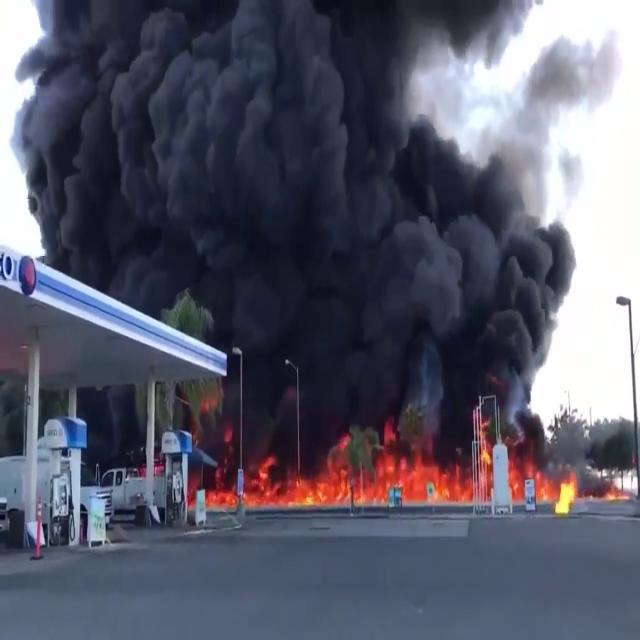Fire: (220, 428, 486, 506), (530, 464, 620, 516), (532, 465, 578, 516)
Smoke: (5, 0, 582, 470)
